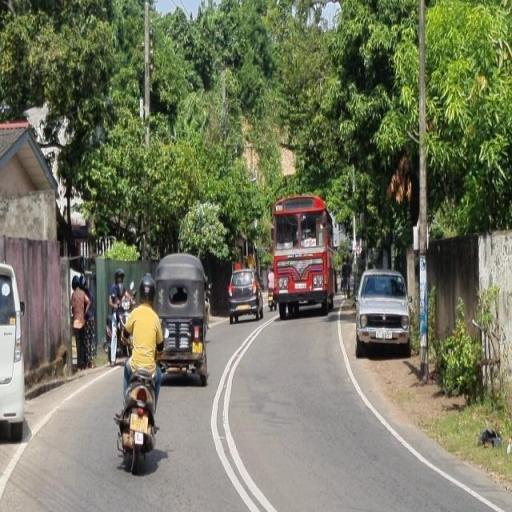double_white_line: (336, 313, 503, 512), (208, 314, 277, 510)
